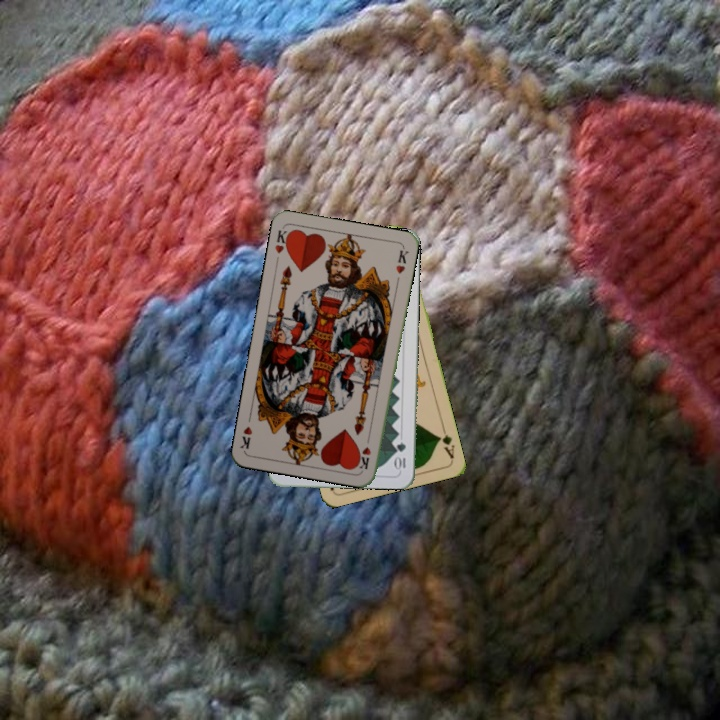G10: (393, 438, 408, 473)
GA: (434, 422, 457, 461)
HK: (355, 431, 373, 472), (271, 226, 294, 256)
